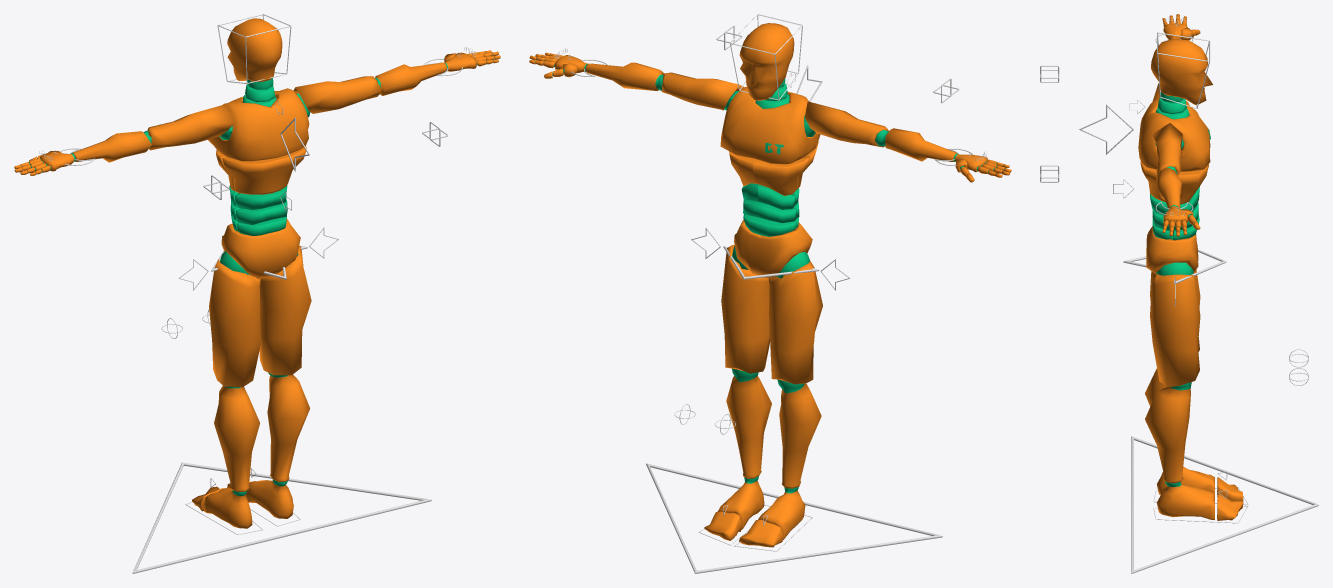
Rendered from robotRig.FBX.
The picture shows the model from 3 angles, left to right: view 1: azimuth 30°, elevation 25°; view 2: azimuth 150°, elevation 25°; view 3: azimuth 270°, elevation 25°; orthographic projection. The views are drawn at different scales.
Visible parts, largest first — view 1: guy_leg_lt_upper1, guy_leg_rt_upper01, guy_torso_chest1, guy_leg_lt_lower1, guy_leg_rt_lower01, guy_pelvis1, guy_head1, guy_torso_b1, guy_arm_lt_upper1, CC_Global01, guy_arm_rt_upper01, guy_arm_lt_lower1 (+6 smaller); view 2: guy_leg_lt_upper1, guy_torso_chest1, guy_leg_rt_upper01, guy_leg_rt_lower01, guy_head1, guy_leg_lt_lower1, guy_pelvis1, CC_Global01, guy_arm_lt_upper1, guy_torso_b1, guy_arm_rt_upper01, guy_arm_lt_lower1 (+9 smaller); view 3: guy_leg_rt_upper01, guy_leg_rt_lower01, guy_head1, guy_torso_chest1, guy_leg_rt_foot_heel01, CC_Global01, guy_pelvis1, guy_arm_rt_upper01, guy_torso_b1, guy_arm_rt_lower01, guy_leg_lt_foot_heel1, guy_leg_rt_foot_ball01 (+5 smaller).
Boxes of the visible parts, bbox=[...] form: guy_leg_lt_upper1: bbox=[209, 251, 260, 387]; guy_leg_rt_upper01: bbox=[259, 245, 311, 375]; guy_torso_chest1: bbox=[208, 88, 309, 161]; guy_leg_lt_lower1: bbox=[214, 385, 259, 491]; guy_leg_rt_lower01: bbox=[267, 373, 309, 482]; guy_pelvis1: bbox=[221, 219, 300, 278]; guy_head1: bbox=[227, 18, 282, 81]; guy_torso_b1: bbox=[216, 146, 306, 194]; guy_arm_lt_upper1: bbox=[147, 104, 234, 150]; CC_Global01: bbox=[132, 462, 431, 573]; guy_arm_rt_upper01: bbox=[293, 76, 381, 117]; guy_arm_lt_lower1: bbox=[72, 130, 151, 162]; guy_leg_lt_upper1: bbox=[768, 252, 822, 384]; guy_torso_chest1: bbox=[720, 87, 820, 164]; guy_leg_rt_upper01: bbox=[721, 245, 770, 373]; guy_leg_rt_lower01: bbox=[726, 368, 771, 478]; guy_head1: bbox=[739, 23, 794, 100]; guy_leg_lt_lower1: bbox=[777, 379, 821, 488]; guy_pelvis1: bbox=[734, 219, 812, 278]; CC_Global01: bbox=[646, 463, 942, 573]; guy_arm_lt_upper1: bbox=[804, 101, 888, 147]; guy_torso_b1: bbox=[729, 141, 818, 195]; guy_arm_rt_upper01: bbox=[661, 72, 743, 110]; guy_arm_lt_lower1: bbox=[875, 128, 957, 161]; guy_leg_rt_upper01: bbox=[1150, 262, 1200, 386]; guy_leg_rt_lower01: bbox=[1145, 382, 1191, 483]; guy_head1: bbox=[1151, 38, 1212, 105]; guy_torso_chest1: bbox=[1138, 98, 1210, 171]; guy_leg_rt_foot_heel01: bbox=[1157, 481, 1214, 519]; CC_Global01: bbox=[1131, 436, 1318, 573]; guy_pelvis1: bbox=[1146, 226, 1198, 274]; guy_arm_rt_upper01: bbox=[1152, 123, 1183, 175]; guy_torso_b1: bbox=[1140, 161, 1208, 204]; guy_arm_rt_lower01: bbox=[1155, 166, 1181, 208]; guy_leg_lt_foot_heel1: bbox=[1157, 467, 1214, 494]; guy_leg_rt_foot_ball01: bbox=[1217, 494, 1243, 520].
Bounding box in the file's own units: 191 × 187 × 102.
